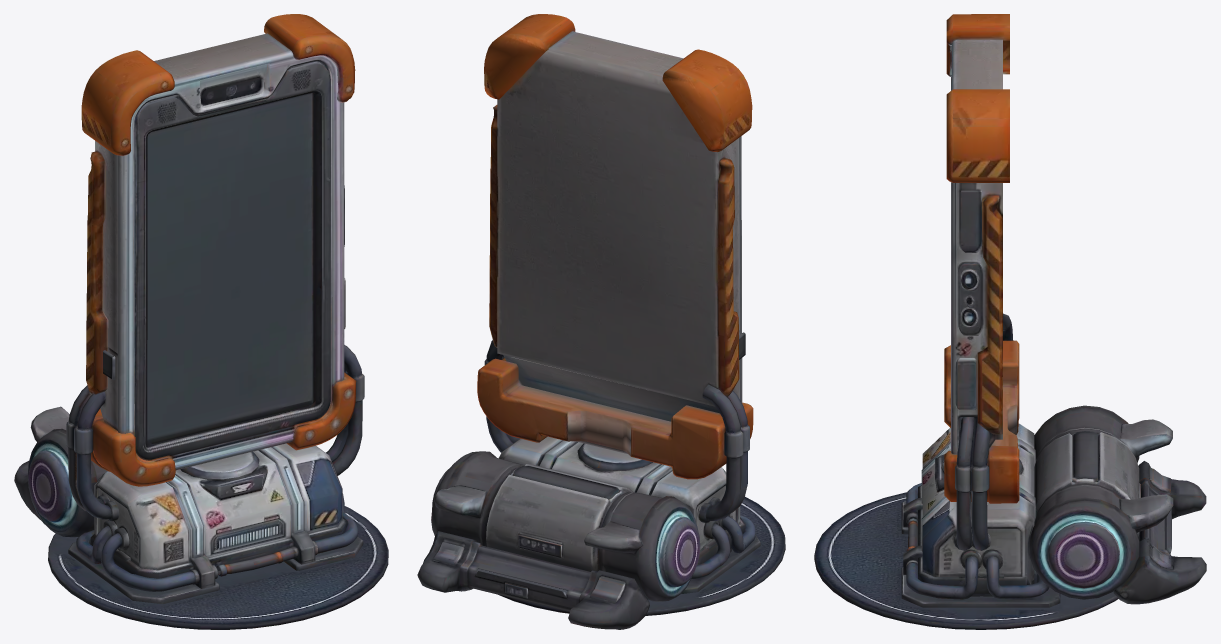
Rendered from standing_billboard.m.glb.
3 views of the same model, side by side, from view 1: azimuth 30°, elevation 25°; view 2: azimuth 150°, elevation 25°; view 3: azimuth 270°, elevation 25° (orthographic). The views are drawn at different scales.
Visible parts, largest first — view 1: tripo_node_a95bb5a5; view 2: tripo_node_a95bb5a5; view 3: tripo_node_a95bb5a5.
Part boxes in pixels (box(x1,y1,x2,y2)): tripo_node_a95bb5a5: box(14, 14, 388, 629); tripo_node_a95bb5a5: box(417, 14, 785, 629); tripo_node_a95bb5a5: box(814, 14, 1206, 629).
Size of the model in its own units: 0.6011 by 0.9995 by 0.7065.
1 material, 1 textured.
